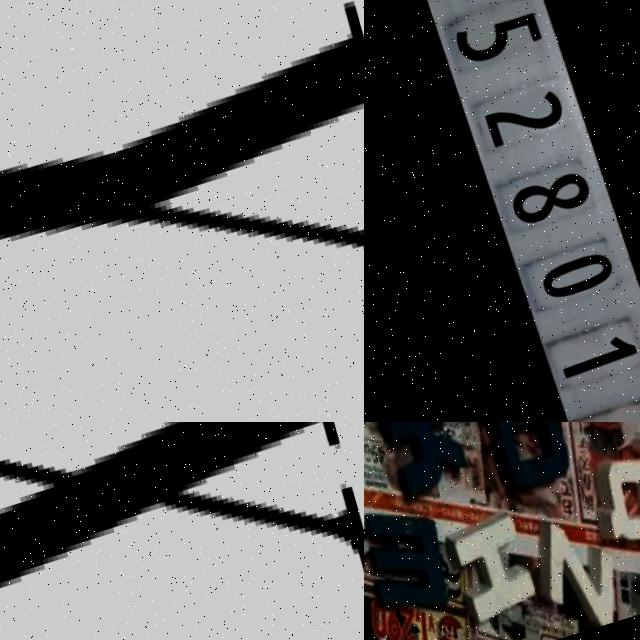0: (533, 234, 625, 306)
1: (550, 311, 640, 389)
2: (476, 74, 577, 153)
3: (576, 394, 640, 422)
5: (444, 0, 552, 75)
8: (501, 152, 604, 234)
D: (482, 422, 579, 501)
H: (447, 515, 544, 630)
K: (380, 422, 470, 494)
M: (364, 511, 457, 621)
Q: (587, 443, 640, 555)
X: (0, 422, 364, 640)
Y: (0, 0, 364, 422)
Z: (528, 514, 635, 640)
